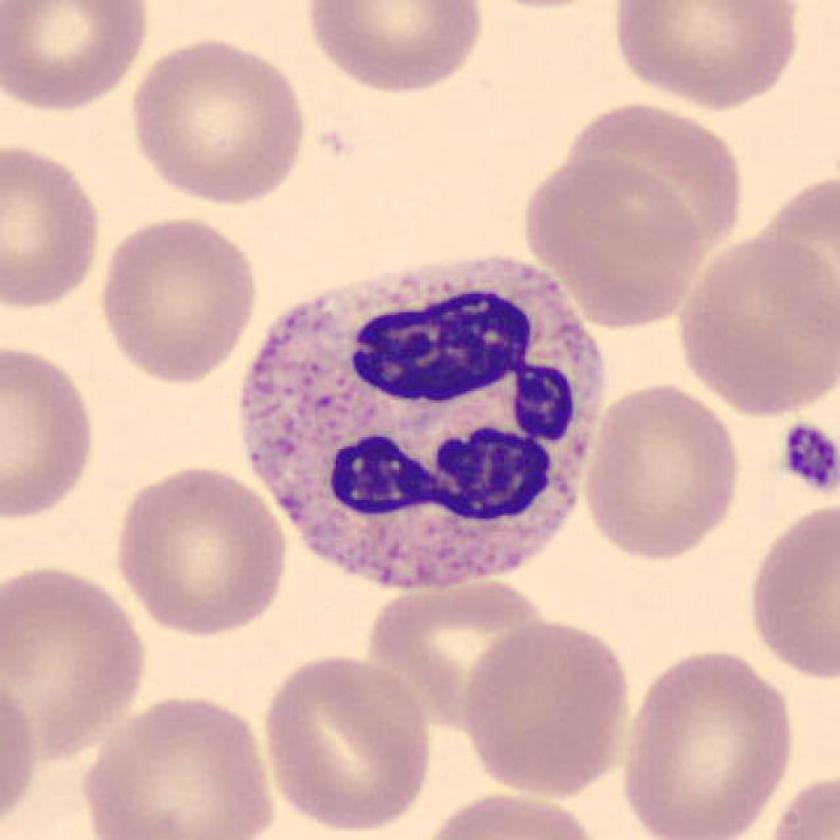neutrophil: (240, 257, 605, 585)
